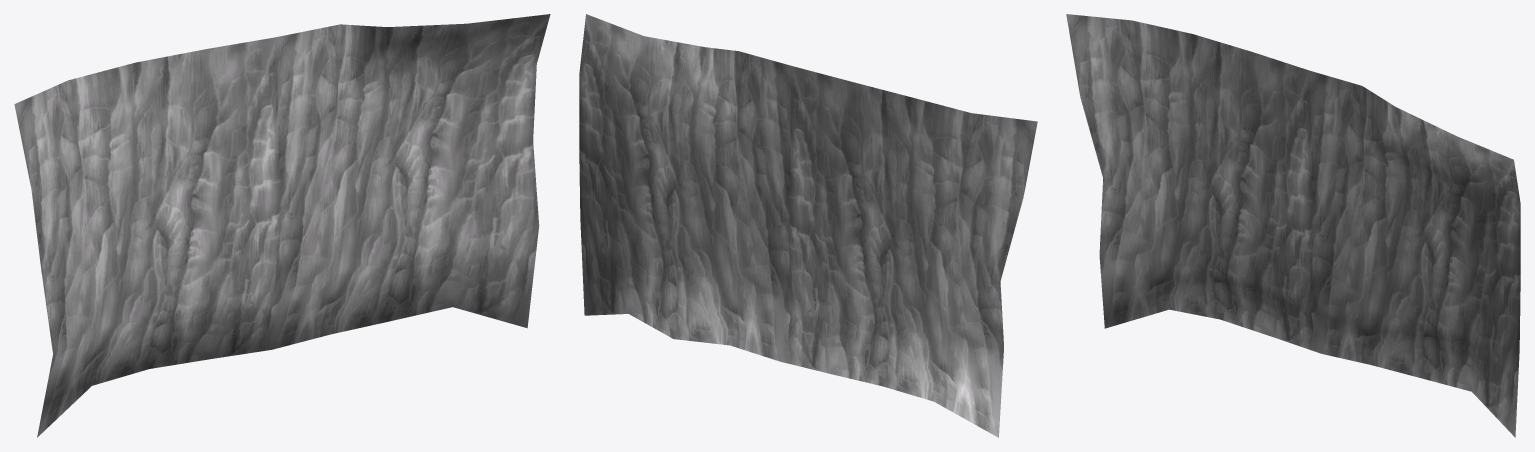
Rendered from SWORDLIGHT20_PS-AREA03_175.fbx.
3 renders of one model, left to right at view 1: azimuth 30°, elevation 25°; view 2: azimuth 150°, elevation 25°; view 3: azimuth 330°, elevation 25°, orthographic. The views are drawn at different scales.
Visible parts, largest first — view 1: SWORDLIGHT20_PS-AREA03_175; view 2: SWORDLIGHT20_PS-AREA03_175; view 3: SWORDLIGHT20_PS-AREA03_175.
Boxes of the visible parts, x1,y1,x2,y2 form: SWORDLIGHT20_PS-AREA03_175: [14, 14, 550, 437]; SWORDLIGHT20_PS-AREA03_175: [579, 14, 1037, 437]; SWORDLIGHT20_PS-AREA03_175: [1066, 14, 1520, 437].
Bounding box in the file's own units: 80174 × 52116 × 10121.
1 material, 1 textured.
